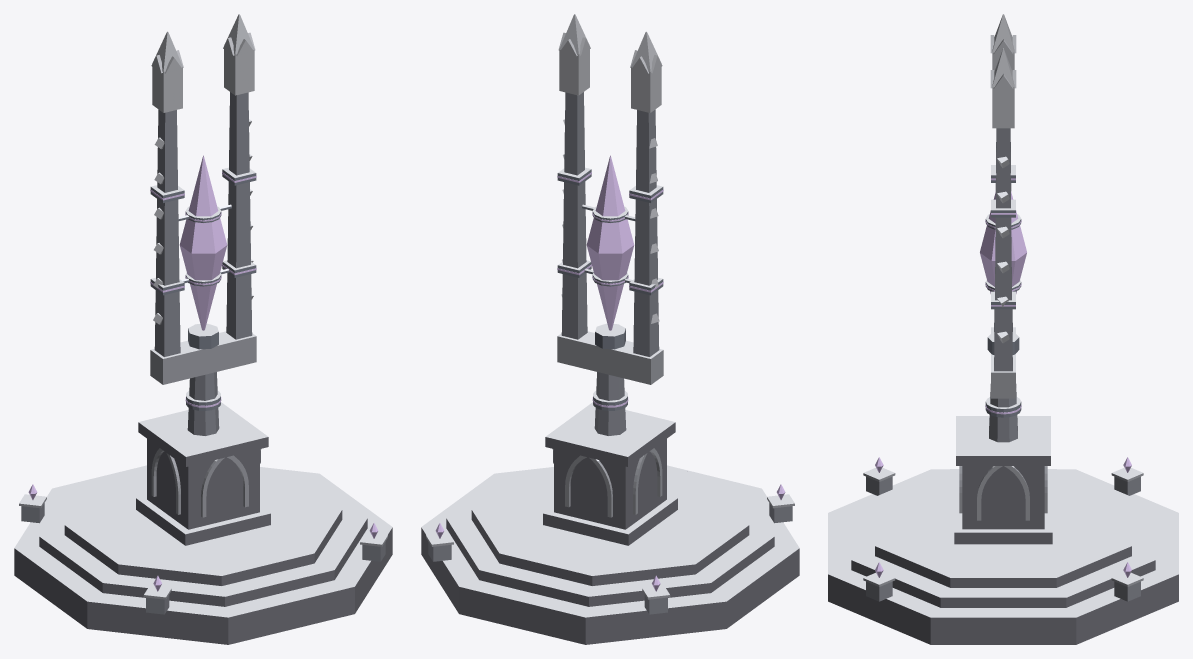
File: PR_Monumento_Diapasao.fbx
3 renders of one model, left to right at view 1: azimuth 30°, elevation 25°; view 2: azimuth 150°, elevation 25°; view 3: azimuth 270°, elevation 25°, orthographic.
Visible parts, largest first — view 1: PR_Monumento_Diapasao; view 2: PR_Monumento_Diapasao; view 3: PR_Monumento_Diapasao.
Boxes of the visible parts, x1,y1,x2,y2 form: PR_Monumento_Diapasao: (14,14,392,644); PR_Monumento_Diapasao: (421,14,799,644); PR_Monumento_Diapasao: (828,14,1178,644).
Bounding box in the file's own units: 11.09 × 18.8 × 11.09.
